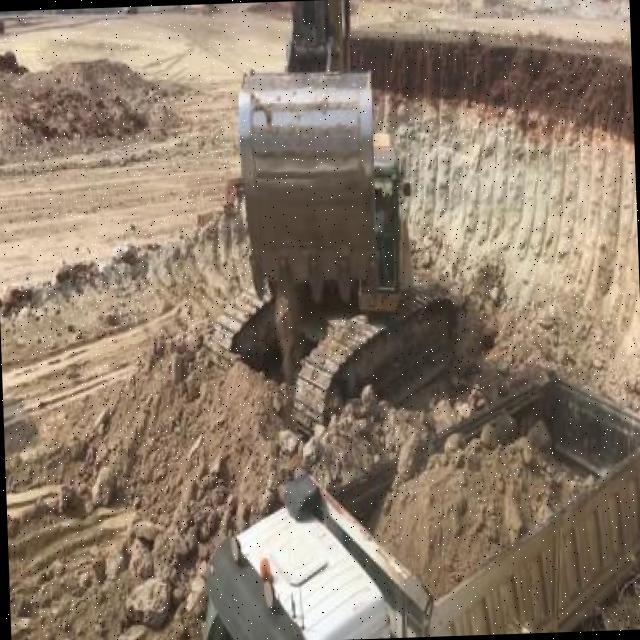Dump Truck: (185, 365, 640, 640)
Excavator: (189, 0, 465, 447)
